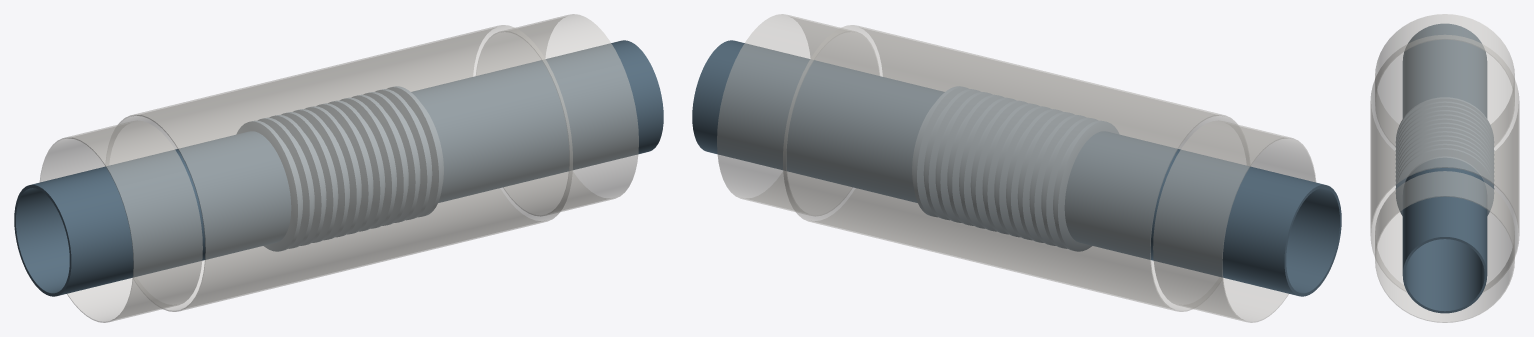
The model's file is ppu-dn250-L1630-D273-k-o482.glb.
3 views of the same model, side by side, from view 1: azimuth 30°, elevation 25°; view 2: azimuth 150°, elevation 25°; view 3: azimuth 270°, elevation 25° (orthographic). The views are drawn at different scales.
Visible parts, largest first — view 1: uslovno_kozhuh_ppu, patrubok_1, patrubok_2, prokladka_silfon_1, uslovno_obolochka_l, uslovno_obolochka_r; view 2: uslovno_kozhuh_ppu, patrubok_1, patrubok_2, prokladka_silfon_1, uslovno_obolochka_l, uslovno_obolochka_r; view 3: uslovno_kozhuh_ppu, patrubok_2, prokladka_silfon_1, uslovno_obolochka_r, patrubok_1, uslovno_obolochka_l.
Boxes of the visible parts, x1,y1,x2,y2 form: uslovno_kozhuh_ppu: (109,25,572,311); patrubok_1: (14,131,291,296); patrubok_2: (411,40,663,202); prokladka_silfon_1: (236,86,443,251); uslovno_obolochka_l: (39,120,202,322); uslovno_obolochka_r: (476,14,638,216); uslovno_kozhuh_ppu: (783,25,1246,311); patrubok_1: (1064,131,1341,296); patrubok_2: (692,40,944,202); prokladka_silfon_1: (912,86,1119,251); uslovno_obolochka_l: (1153,120,1316,322); uslovno_obolochka_r: (717,14,879,216); uslovno_kozhuh_ppu: (1370,34,1519,291); patrubok_2: (1402,157,1487,313); prokladka_silfon_1: (1395,97,1494,215); uslovno_obolochka_r: (1375,171,1514,322); patrubok_1: (1402,23,1487,118); uslovno_obolochka_l: (1375,14,1514,146).
Size of the model in its own units: 1630 by 482 by 482.
